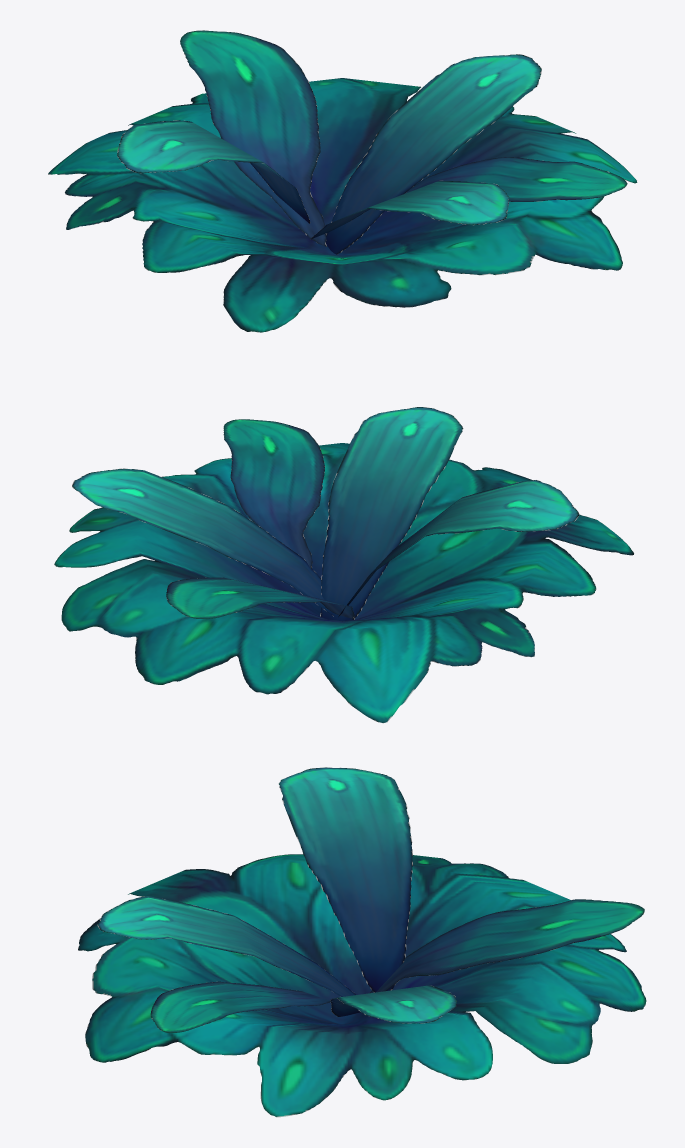
Rendered from Battle01_Cao_09.FBX.
3 renders of one model, top to bottom at view 1: azimuth 30°, elevation 25°; view 2: azimuth 150°, elevation 25°; view 3: azimuth 270°, elevation 25°, orthographic.
Parts seen in each view (by area): view 1: Battle01_Cao_09; view 2: Battle01_Cao_09; view 3: Battle01_Cao_09.
Boxes of the visible parts, bbox=[...] form: Battle01_Cao_09: bbox=[48, 30, 637, 332]; Battle01_Cao_09: bbox=[54, 407, 633, 723]; Battle01_Cao_09: bbox=[78, 767, 646, 1117].
Bounding box in the file's own units: 4.06 × 1.07 × 4.06.
